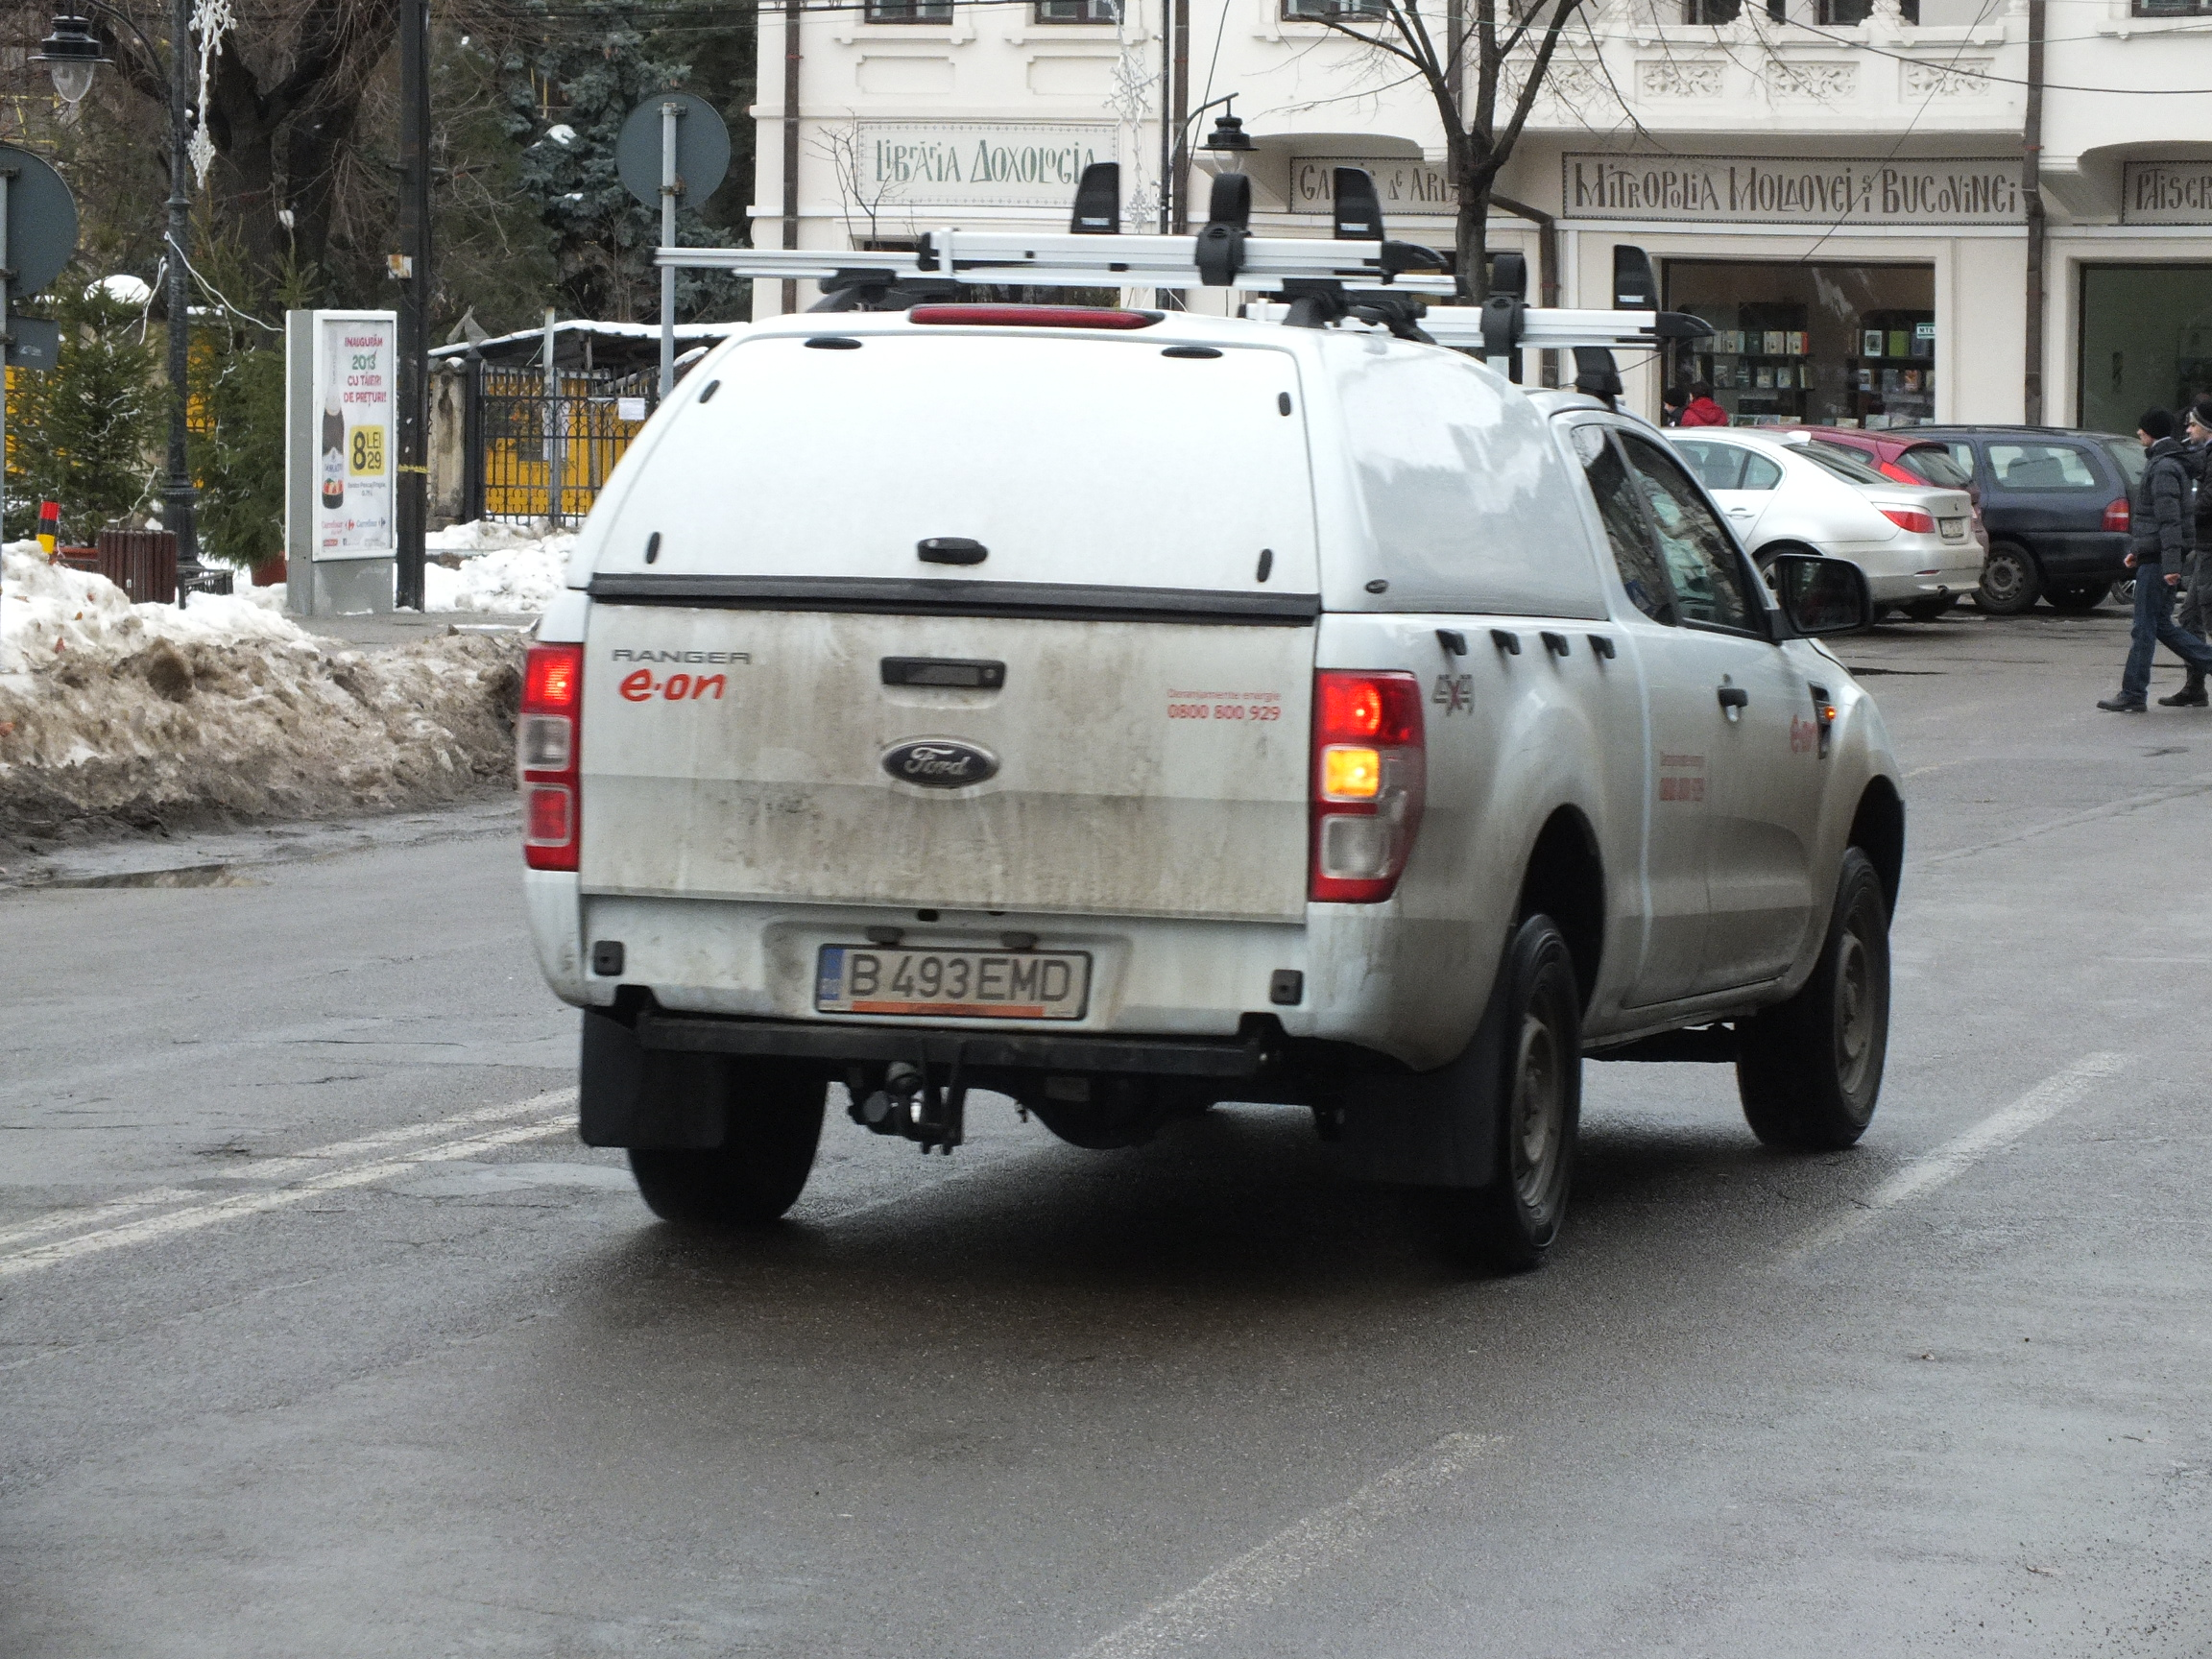B493EMD: (817, 949, 1082, 1016)
